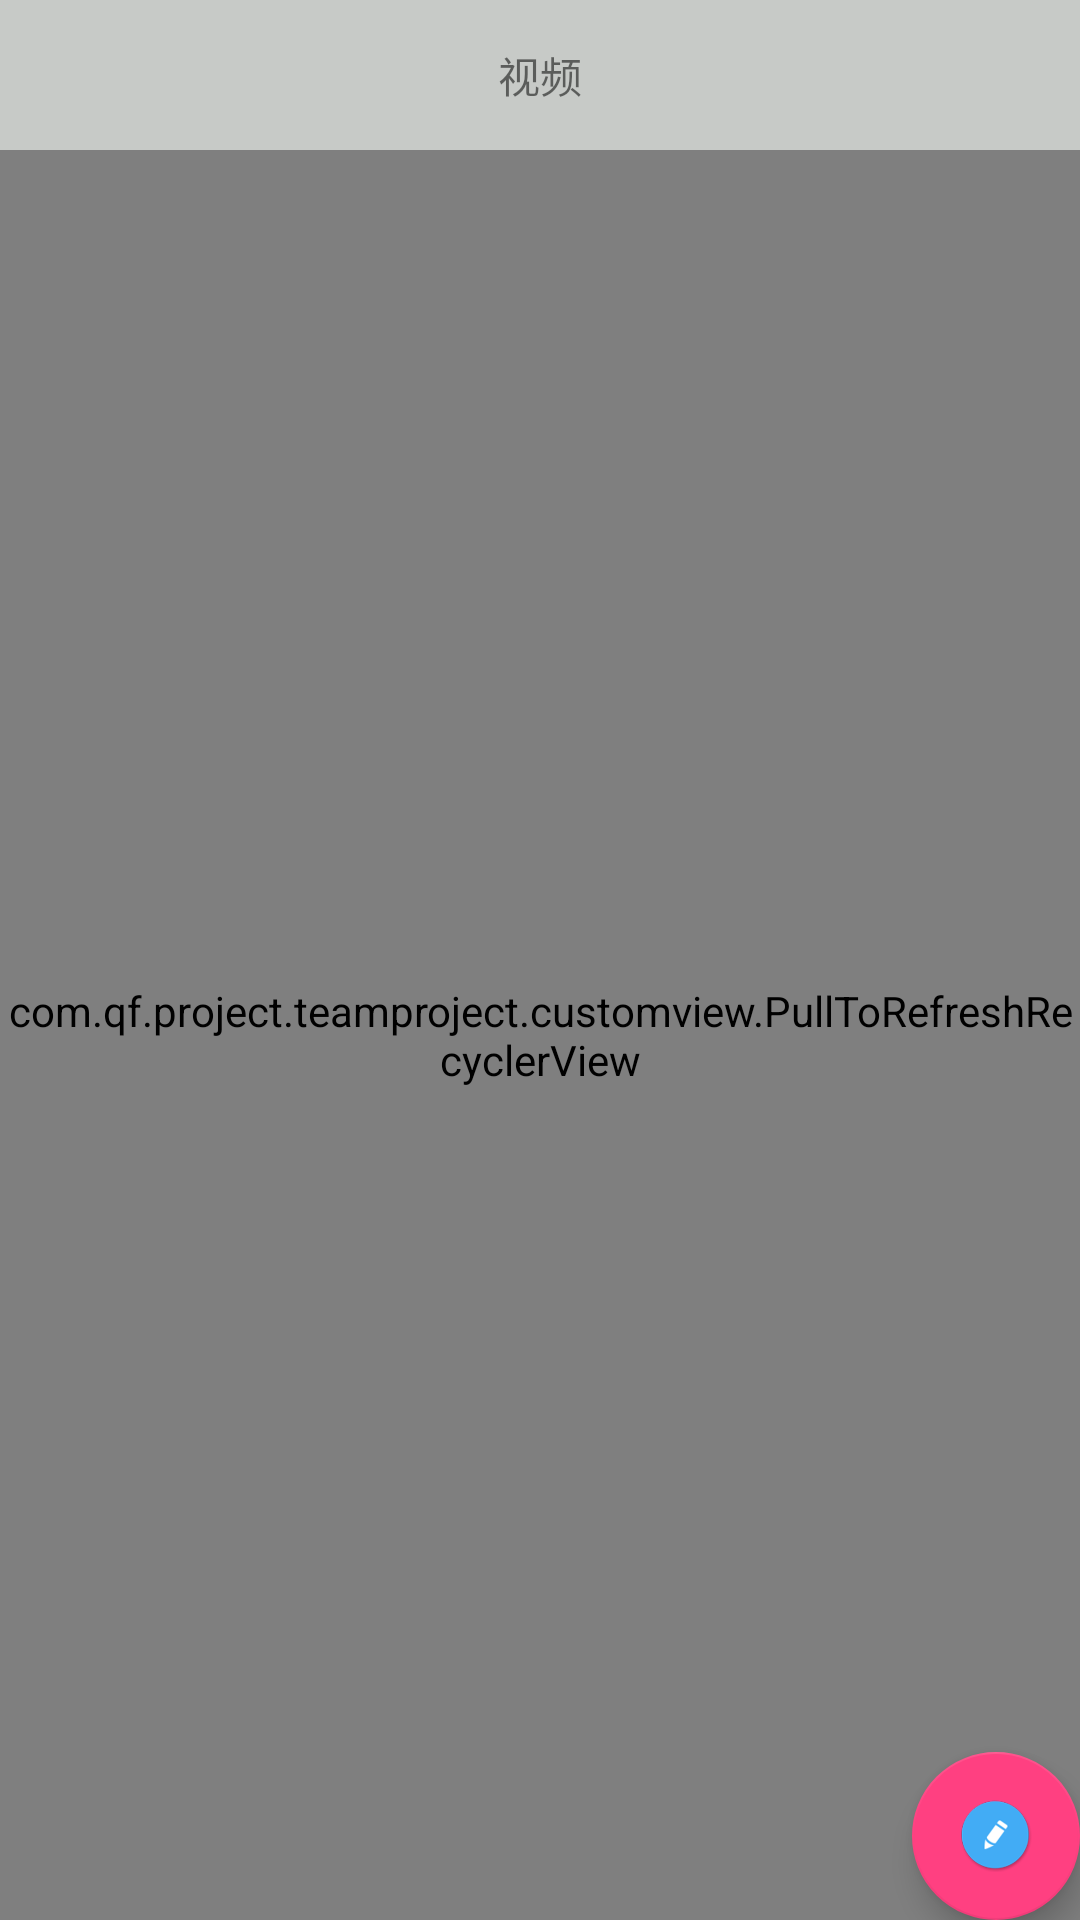

Point at icon controls on the screen. Image size 1080 x 1920, points as (x,y).
shipin floatingab: (996,1836)
